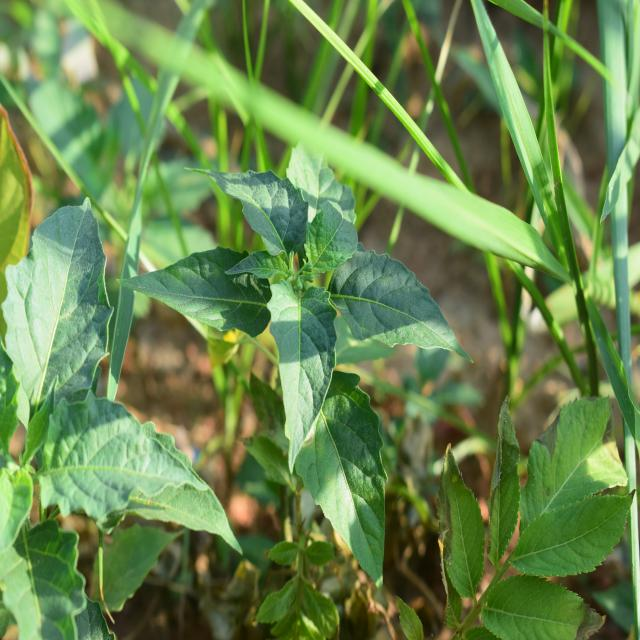Black_nightshade: (188, 141, 435, 565)
